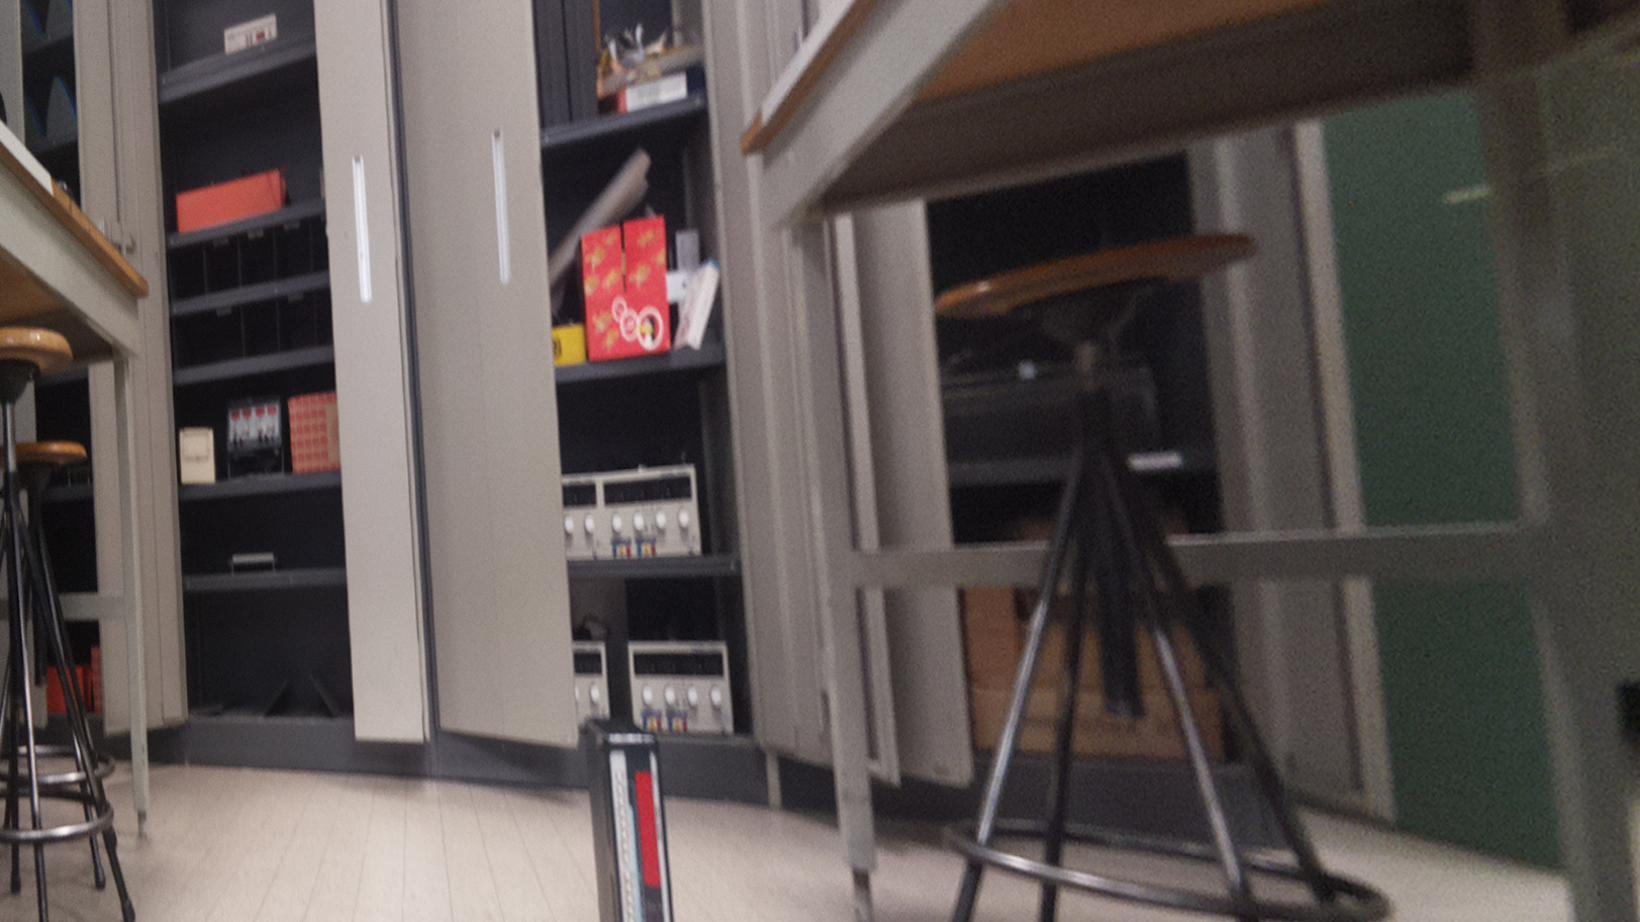medium: (574, 716, 676, 922)
